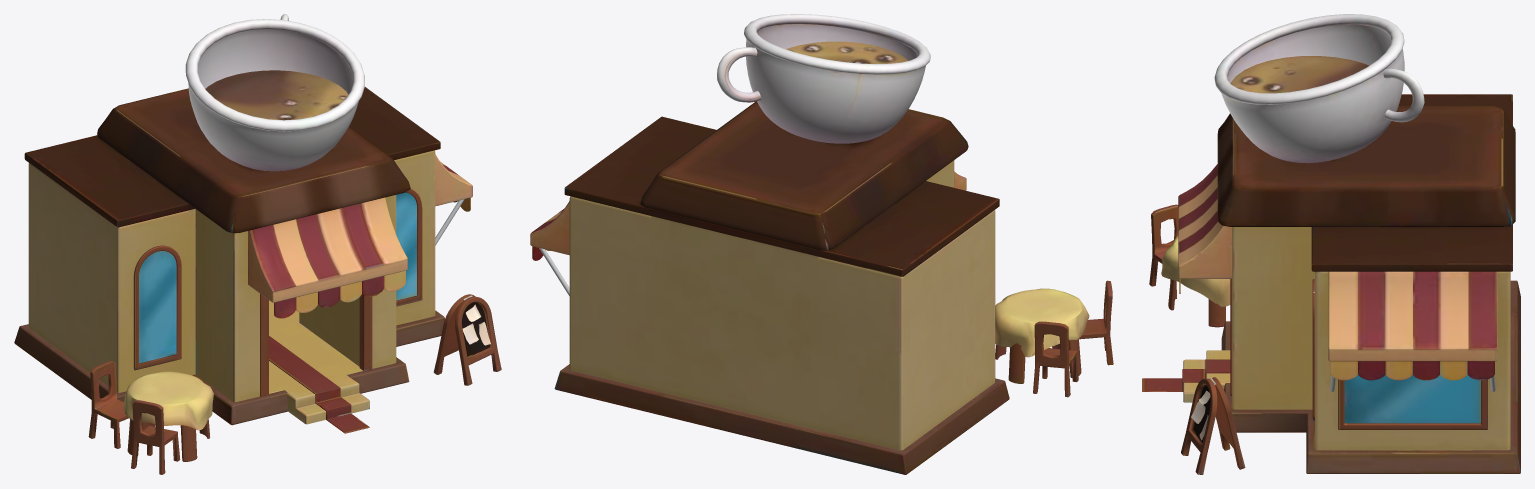
File: BLD_GolgiPost.glb
3 views of the same model, side by side, from view 1: azimuth 30°, elevation 25°; view 2: azimuth 150°, elevation 25°; view 3: azimuth 270°, elevation 25° (orthographic). The views are drawn at different scales.
Parts seen in each view (by area): view 1: building1_lambert1_0; view 2: building1_lambert1_0; view 3: building1_lambert1_0.
Boxes of the visible parts, box(x1,y1,x2,y2) form: building1_lambert1_0: box(14, 14, 501, 474); building1_lambert1_0: box(530, 14, 1113, 474); building1_lambert1_0: box(1142, 14, 1520, 474).
Size of the model in its own units: 0.2158 by 0.1626 by 0.1598.
1 material, 1 textured.
